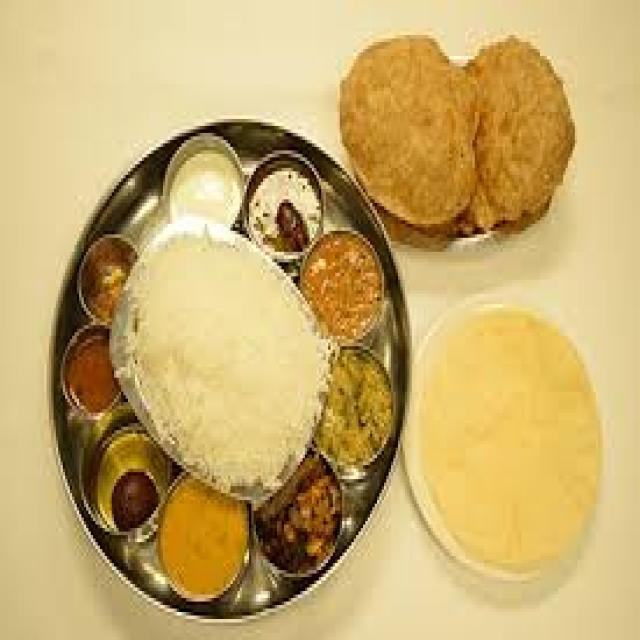dal: (316, 343, 400, 471)
roti: (342, 33, 576, 232)
sweet: (299, 219, 394, 342), (96, 437, 167, 536)
